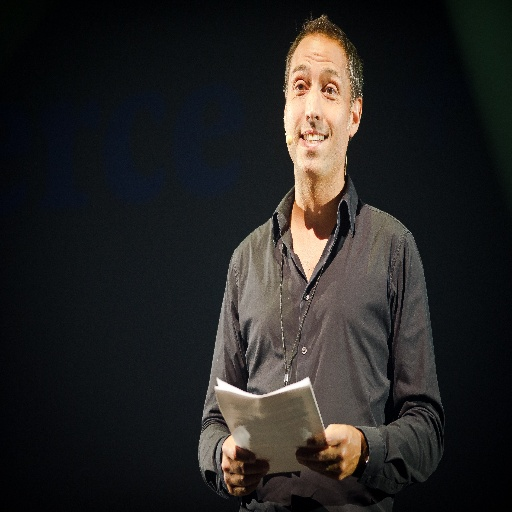hand: (220, 433, 271, 501), (318, 424, 374, 481)
